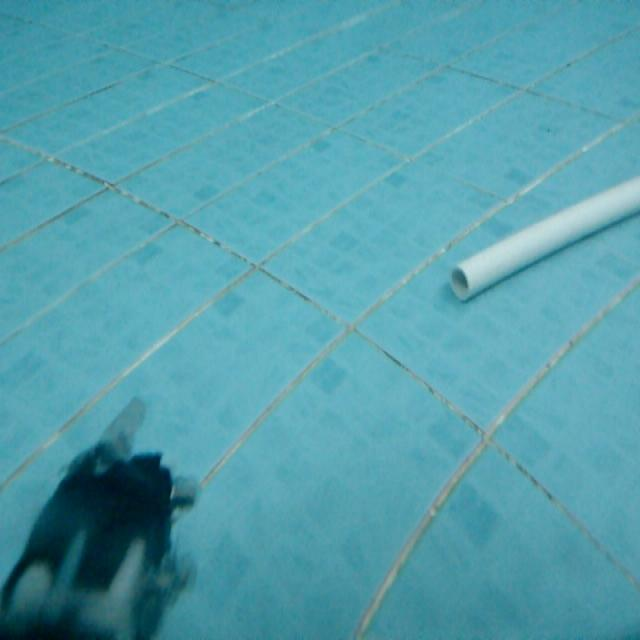Cube: (445, 160, 639, 305)
